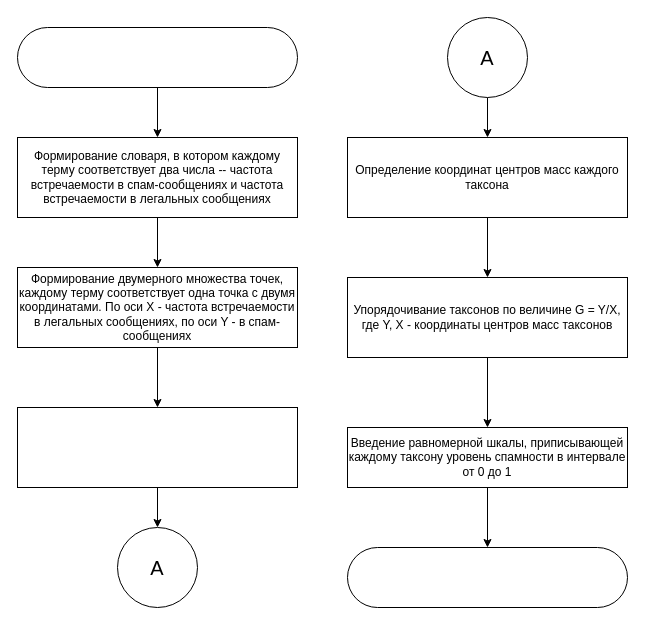
Some shapes in this 645 by 625 pixel diagram are drawn without their labels. The shapes that lost their labels are listed below. From the top down, each one's centre as x and y in pixels, then its label:
At [157,57]: "Начало".
At [157,447]: "Решение задачи таксономии".
At [487,577]: "Конец".
